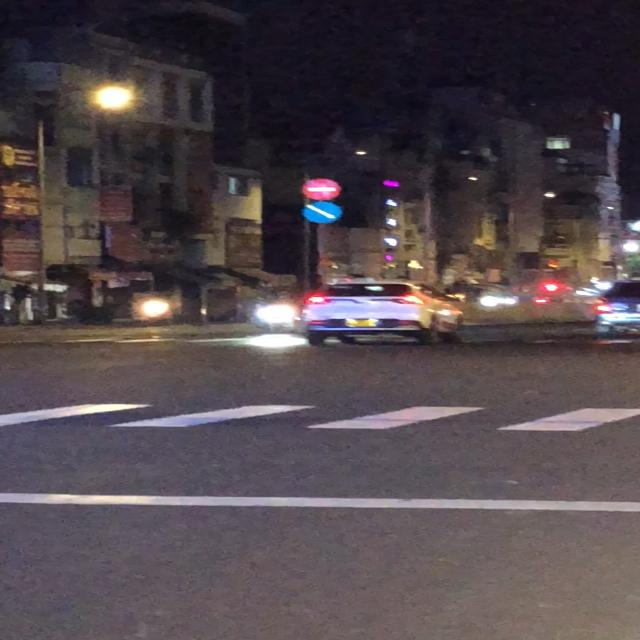Bien bao cam di nguoc chieu: (300, 178, 344, 201)
Bien bao huong phai di vong chuong ngai vat: (302, 200, 346, 226)
